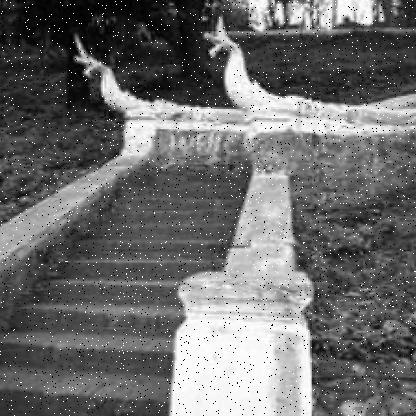stair_up: (8, 189, 179, 400)
